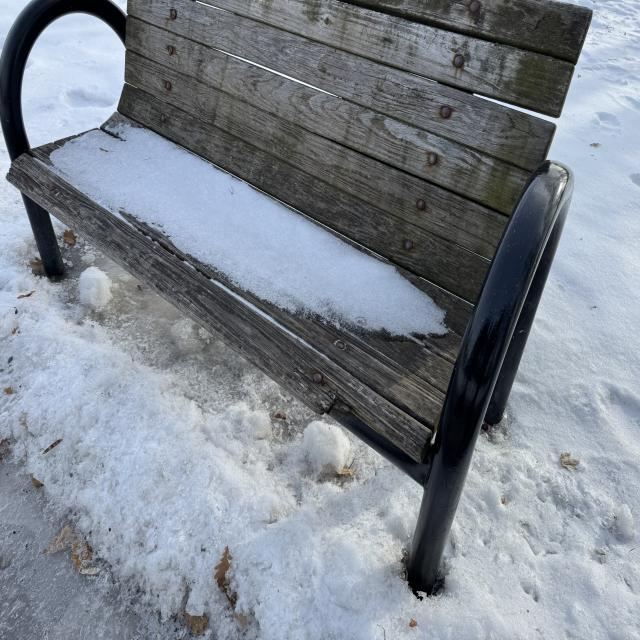Bench: (270, 2, 582, 559)
